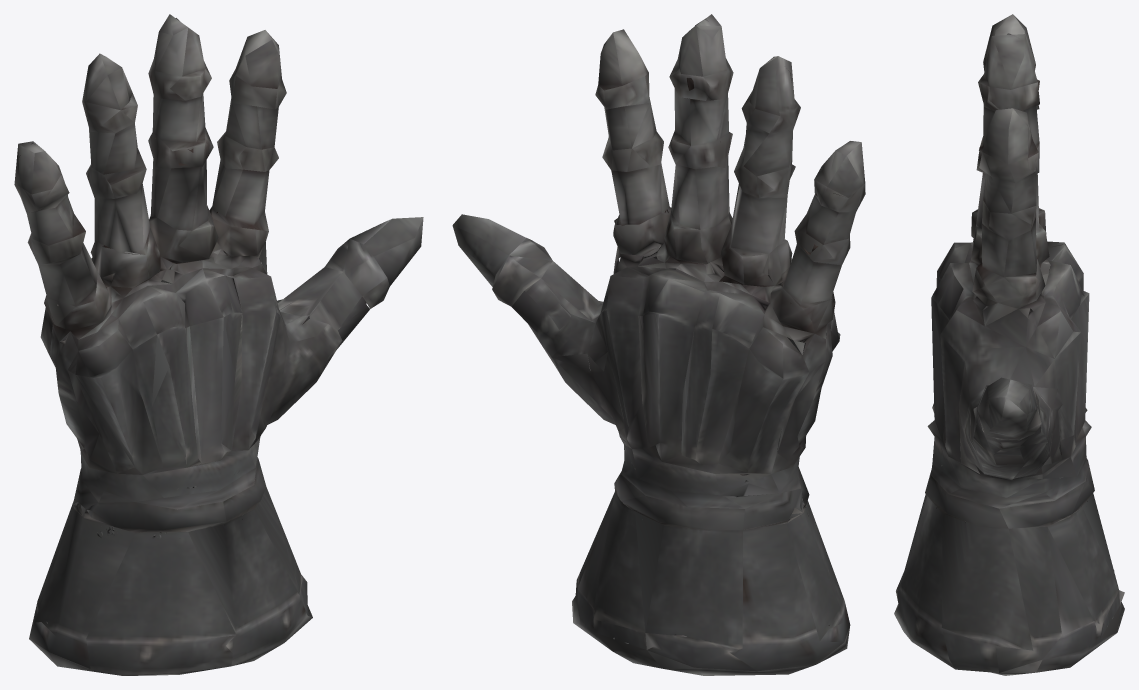
File: gauntlet-v2b-prepped.glb
3 views of the same model, side by side, from view 1: azimuth 30°, elevation 25°; view 2: azimuth 150°, elevation 25°; view 3: azimuth 270°, elevation 25° (orthographic). The views are drawn at different scales.
Visible parts, largest first — view 1: gauntlet; view 2: gauntlet; view 3: gauntlet.
Part boxes in pixels (<box>): gauntlet: <box>14,14,423,675</box>; gauntlet: <box>452,14,865,675</box>; gauntlet: <box>894,14,1124,675</box>.
Size of the model in its own units: 0.7029 by 1 by 0.3568.
1 material, 1 textured.
